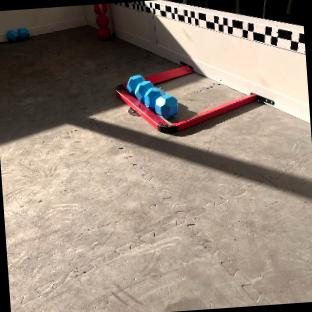Parking-R: (116, 84, 272, 132)
V5_BLUE: (126, 74, 178, 118), (16, 27, 28, 39)
